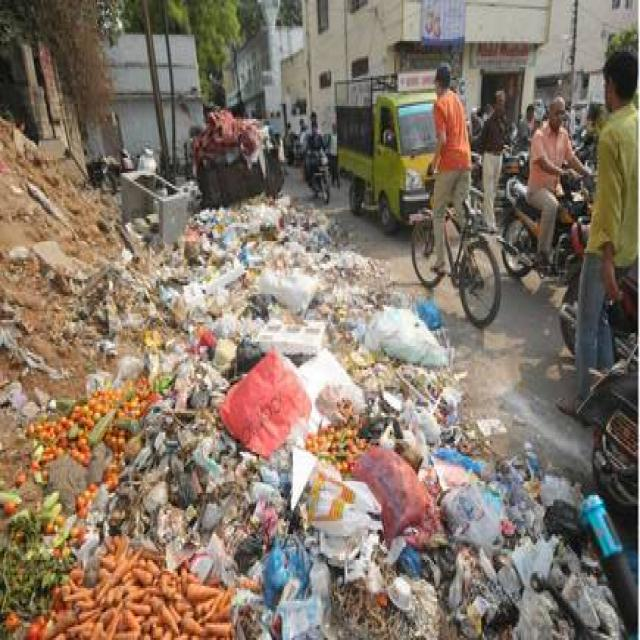food_waste: (6, 498, 240, 637), (39, 550, 231, 640), (37, 386, 162, 466), (306, 420, 373, 468)
